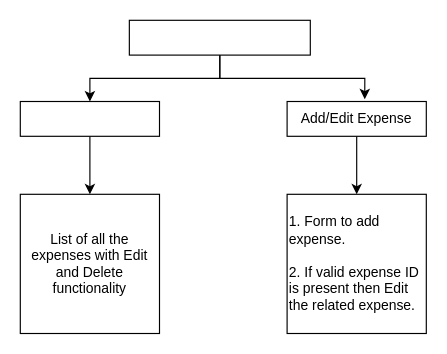
Image size: 447x354. Some labels were removed from this diagram. The shapes that lost their labels are listed below. From the top down, each one's box as (x1, y1, x2, y2) in pixels, then its label:
(128, 19, 310, 55): Expense Tracker
(19, 100, 160, 136): All Expenses
